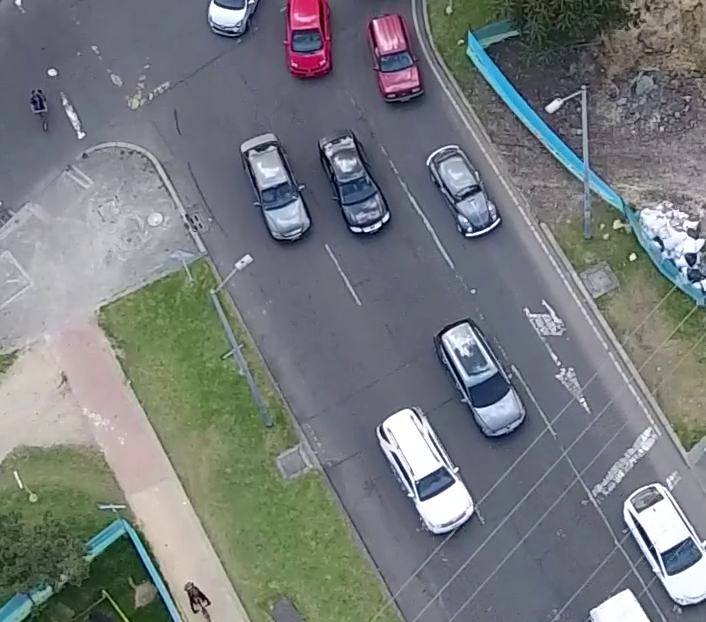car: (372, 404, 476, 541), (430, 317, 529, 444), (238, 130, 313, 245), (316, 129, 392, 238), (423, 142, 504, 240), (365, 10, 429, 104)
